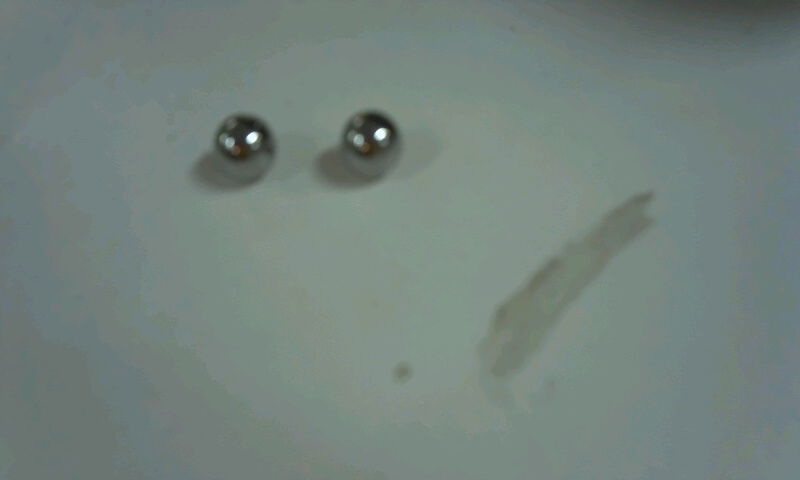steelball: (196, 96, 285, 185), (331, 96, 407, 193)
